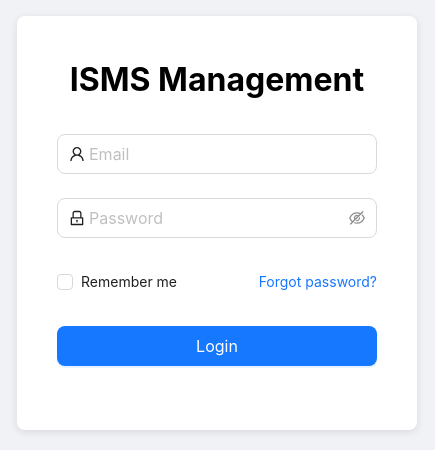
Test: LoginPage › Form Validation › should show error when password is empty
Step 1. Type "test@example.com" into the field labelled "Email" → (227, 154), box [89,142,365,166]
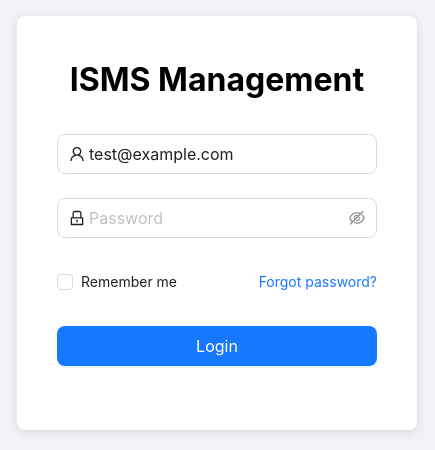
Step 2. Click the button "Login" → (217, 346), box [57,326,377,366]
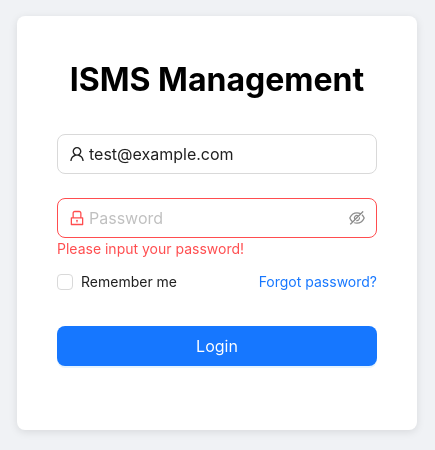
Now the text "Please input your password!" is shown, box [57,240,244,257]
